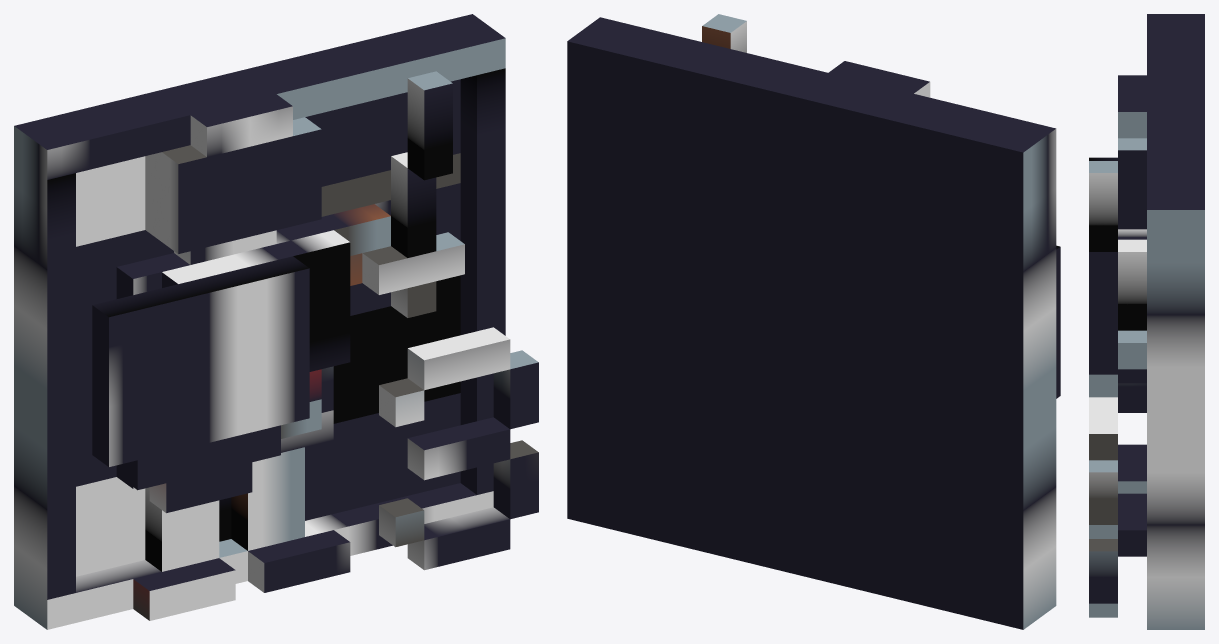
Rendered from hero3.fbx.
The picture shows the model from 3 angles, left to right: view 1: azimuth 30°, elevation 25°; view 2: azimuth 150°, elevation 25°; view 3: azimuth 270°, elevation 25°; orthographic projection. The views are drawn at different scales.
Visible parts, largest first — view 1: hero3; view 2: hero3; view 3: hero3.
Boxes of the visible parts, x1,y1,x2,y2 form: hero3: (14, 14, 538, 629); hero3: (567, 14, 1060, 629); hero3: (1089, 14, 1204, 629).
Size of the model in its own units: 16 by 16 by 4.
